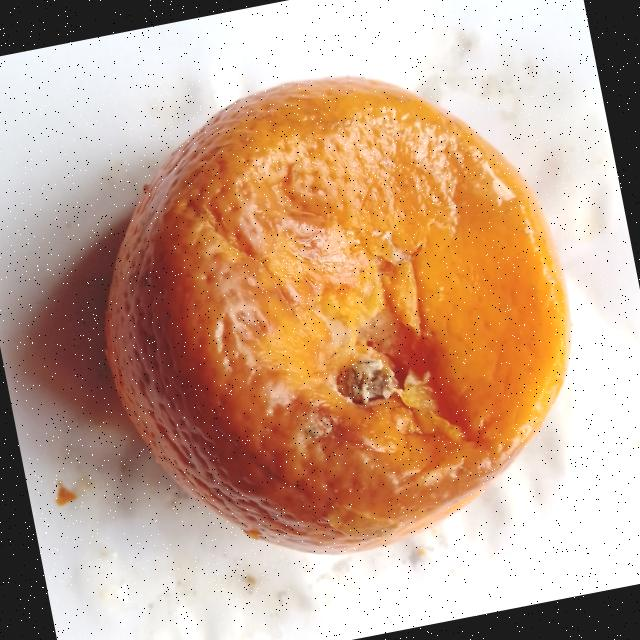Rotten: (57, 36, 608, 595)
